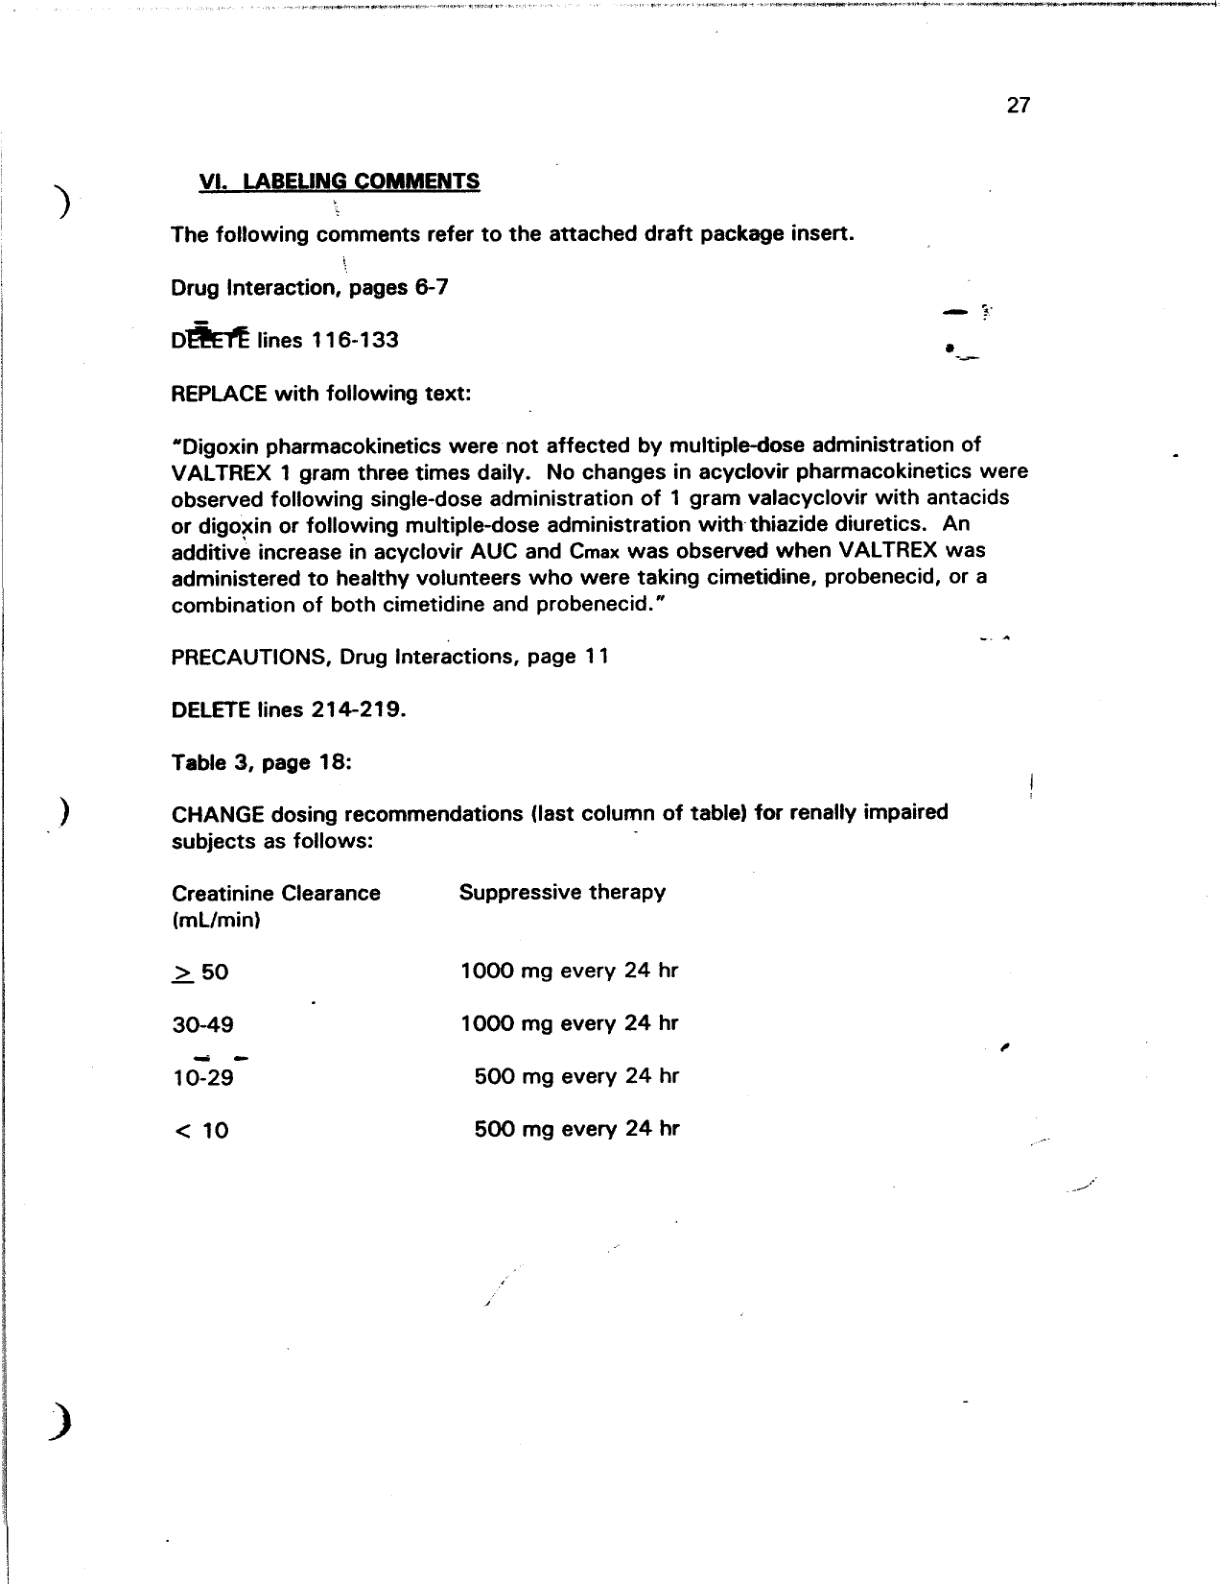nolines: (169, 882, 685, 1142)
